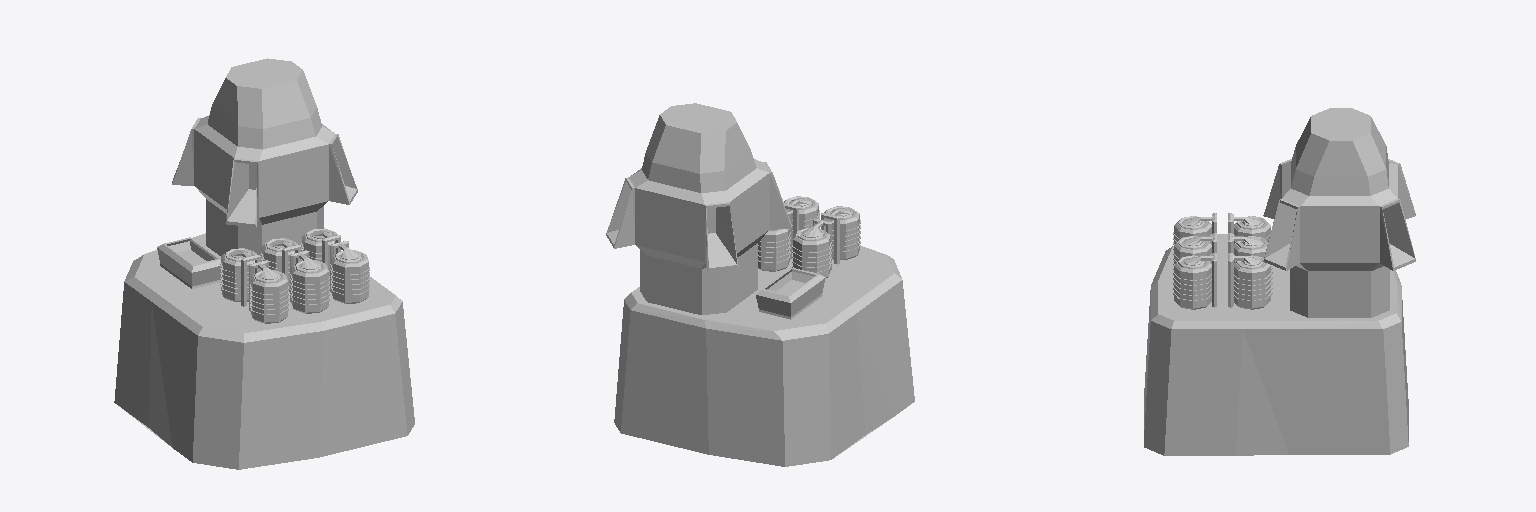
File: ironWorks.obj
The picture shows the model from 3 angles: view 1: azimuth 30°, elevation 25°; view 2: azimuth 150°, elevation 25°; view 3: azimuth 270°, elevation 25°; orthographic projection.
Parts seen in each view (by area): view 1: Cube; view 2: Cube; view 3: Cube.
Boxes of the visible parts, <box> form: Cube: <box>114,58,414,469</box>; Cube: <box>606,103,914,466</box>; Cube: <box>1144,108,1415,455</box>.
Size of the model in its own units: 3.53 by 4.82 by 3.96.